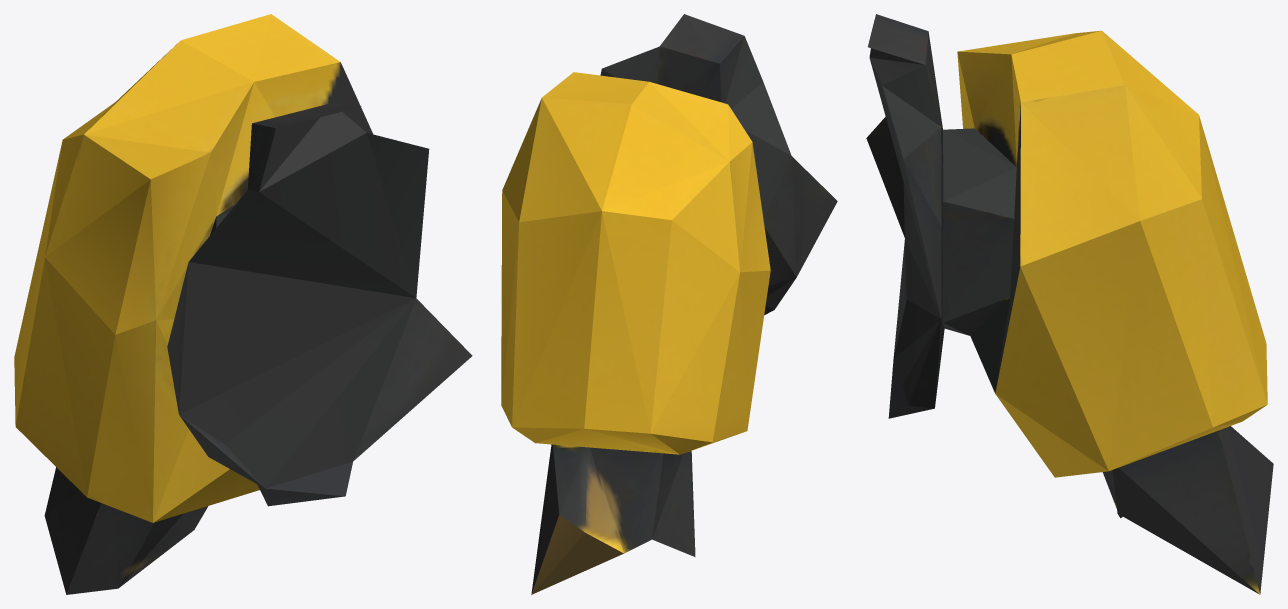
File: SM_ChaserDebris_UpperArm_L.fbx
The picture shows the model from 3 angles, left to right: view 1: azimuth 30°, elevation 25°; view 2: azimuth 150°, elevation 25°; view 3: azimuth 270°, elevation 25°; orthographic projection. The views are drawn at different scales.
Visible parts, largest first — view 1: SM_ChaserDebris_UpperArm_L; view 2: SM_ChaserDebris_UpperArm_L; view 3: SM_ChaserDebris_UpperArm_L.
Boxes of the visible parts, x1,y1,x2,y2 form: SM_ChaserDebris_UpperArm_L: (14,14,472,594); SM_ChaserDebris_UpperArm_L: (501,14,837,594); SM_ChaserDebris_UpperArm_L: (866,14,1273,594).
Size of the model in its own units: 13.54 by 23.38 by 15.59.
Materials: 1 (1 with a texture image).
